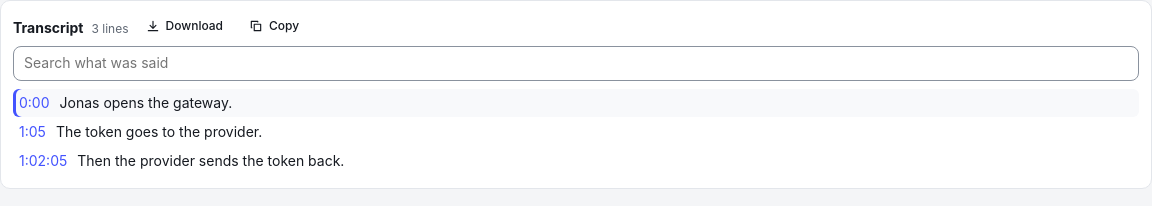
Test: TranscriptView › says when no line matches
The image size is (1152, 206).
Later steps or results of the test are not shown.
Expected: the text "Jonas opens the gateway." is shown, 60,93 -> 232,113
Type "printer" into the dropdown named "search the transcript" at x=576, y=64, box 13,46 -> 1139,81
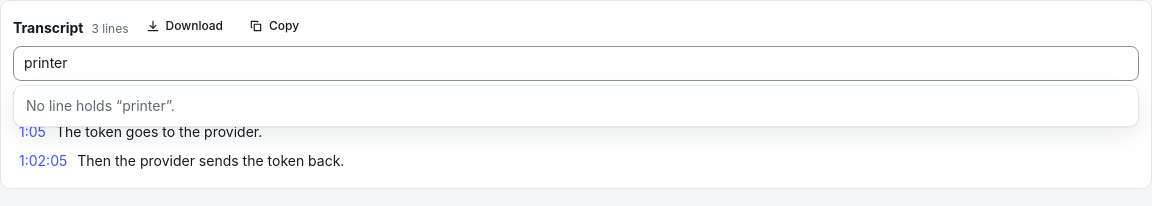
Expected: the text "No line holds “printer”." is shown, 13,85 -> 1139,127
